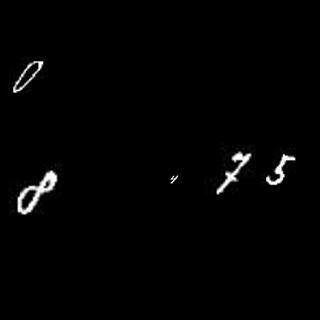eight: (17, 168, 56, 214)
five: (264, 154, 296, 184)
four: (167, 173, 180, 184)
seven: (214, 147, 252, 195)
zero: (14, 58, 45, 90)
